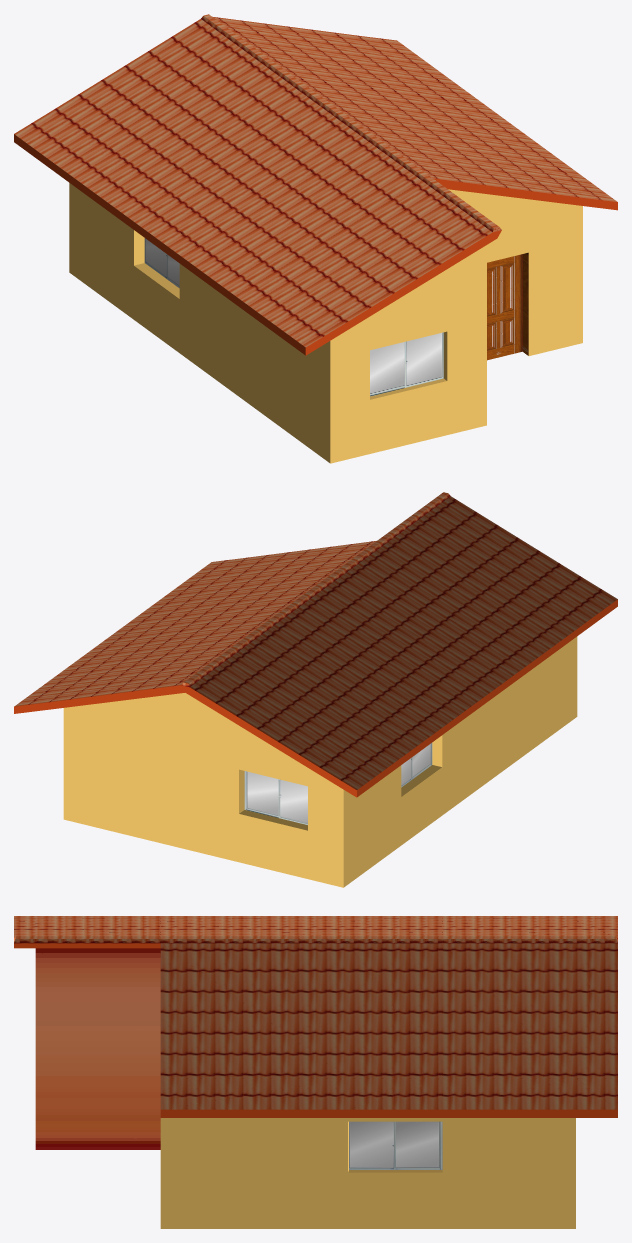
File: Casa02.FBX
3 views of the same model, one above another, from view 1: azimuth 30°, elevation 25°; view 2: azimuth 150°, elevation 25°; view 3: azimuth 270°, elevation 25° (orthographic). The views are drawn at different scales.
Visible parts, largest first — view 1: casa02; view 2: casa02; view 3: casa02.
Boxes of the visible parts, x1,y1,x2,y2 form: casa02: (14, 14, 617, 463); casa02: (14, 492, 617, 887); casa02: (14, 916, 617, 1228).
Bounding box in the file's own units: 1.64 × 0.8407 × 2.17.
Materials: 5 (4 with a texture image).
